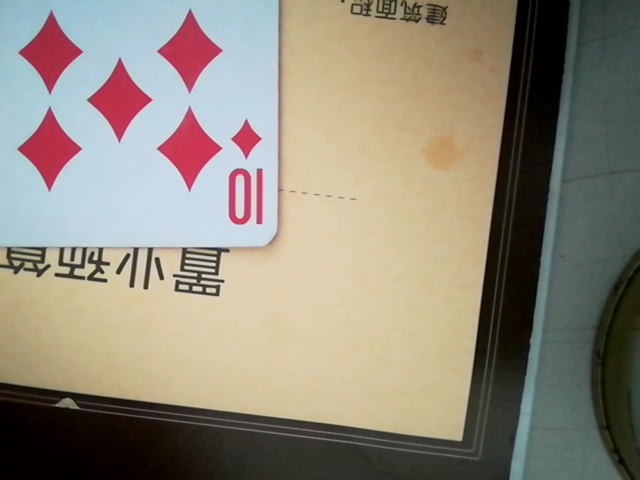fk 10: (0, 3, 279, 248)
